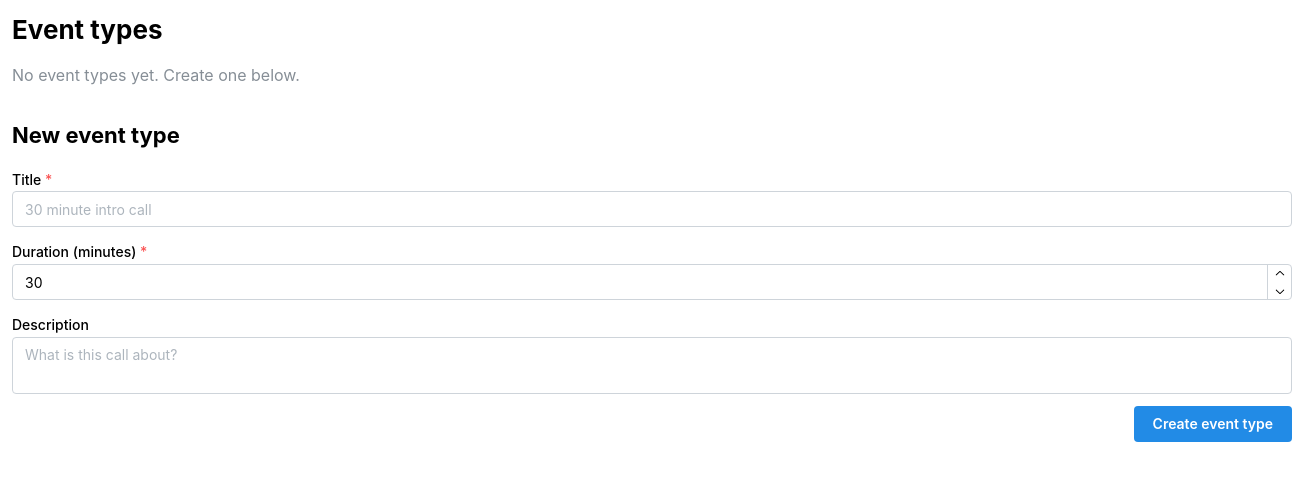
Test: EventTypesPage › blocks submission and shows a client-side error for a blank title
Check: the text "No event types yet. Create one below." is shown, box top-left (12, 65), bottom-right (300, 85)
Click the button "Create event type": (1213, 424) top-left (1134, 406), bottom-right (1292, 442)
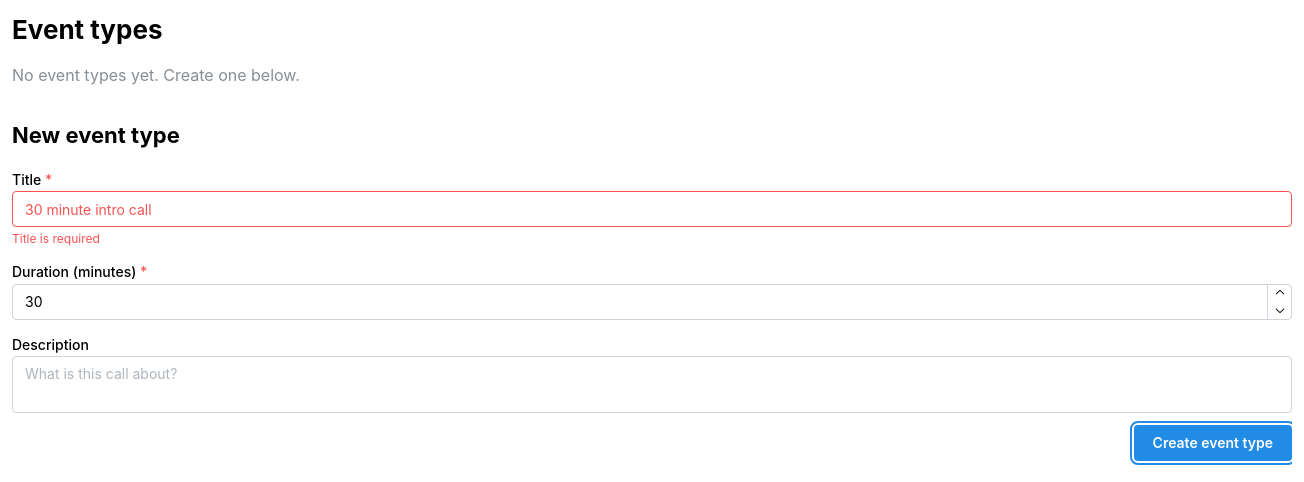
Check: the text "Title is required" is shown, box top-left (12, 232), bottom-right (100, 246)
